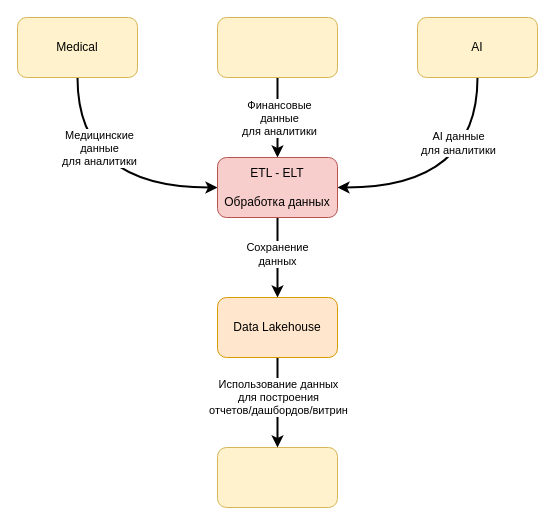
The diagram is 555 pixels wide and 525 high, and some of its shapes have lost their labels. The centre of each missing label's shape, as x and y in pixels:
Data: the point at 277,477
FinTech: the point at 277,47
